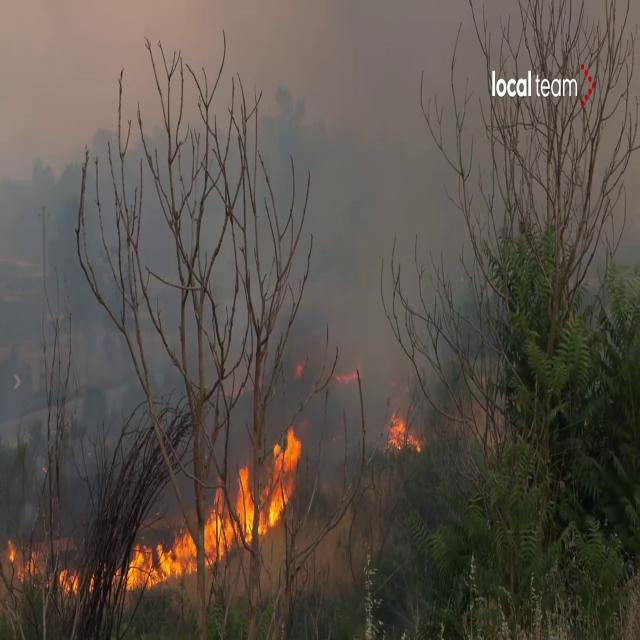Fire: (190, 406, 308, 555), (2, 530, 88, 596), (123, 522, 199, 592), (382, 398, 424, 458)
Smoke: (13, 0, 561, 403)
